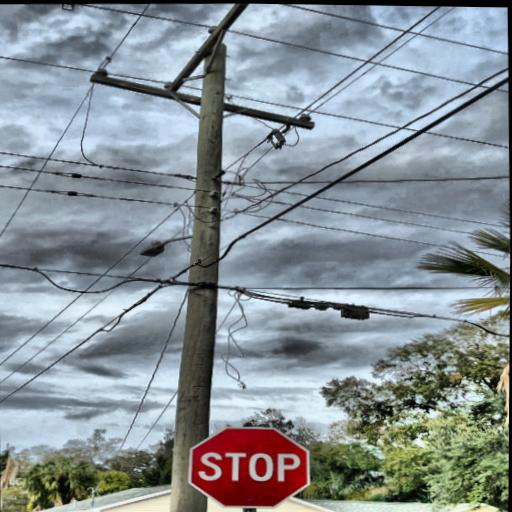pole: (140, 29, 238, 512)
street light: (138, 233, 198, 259)
